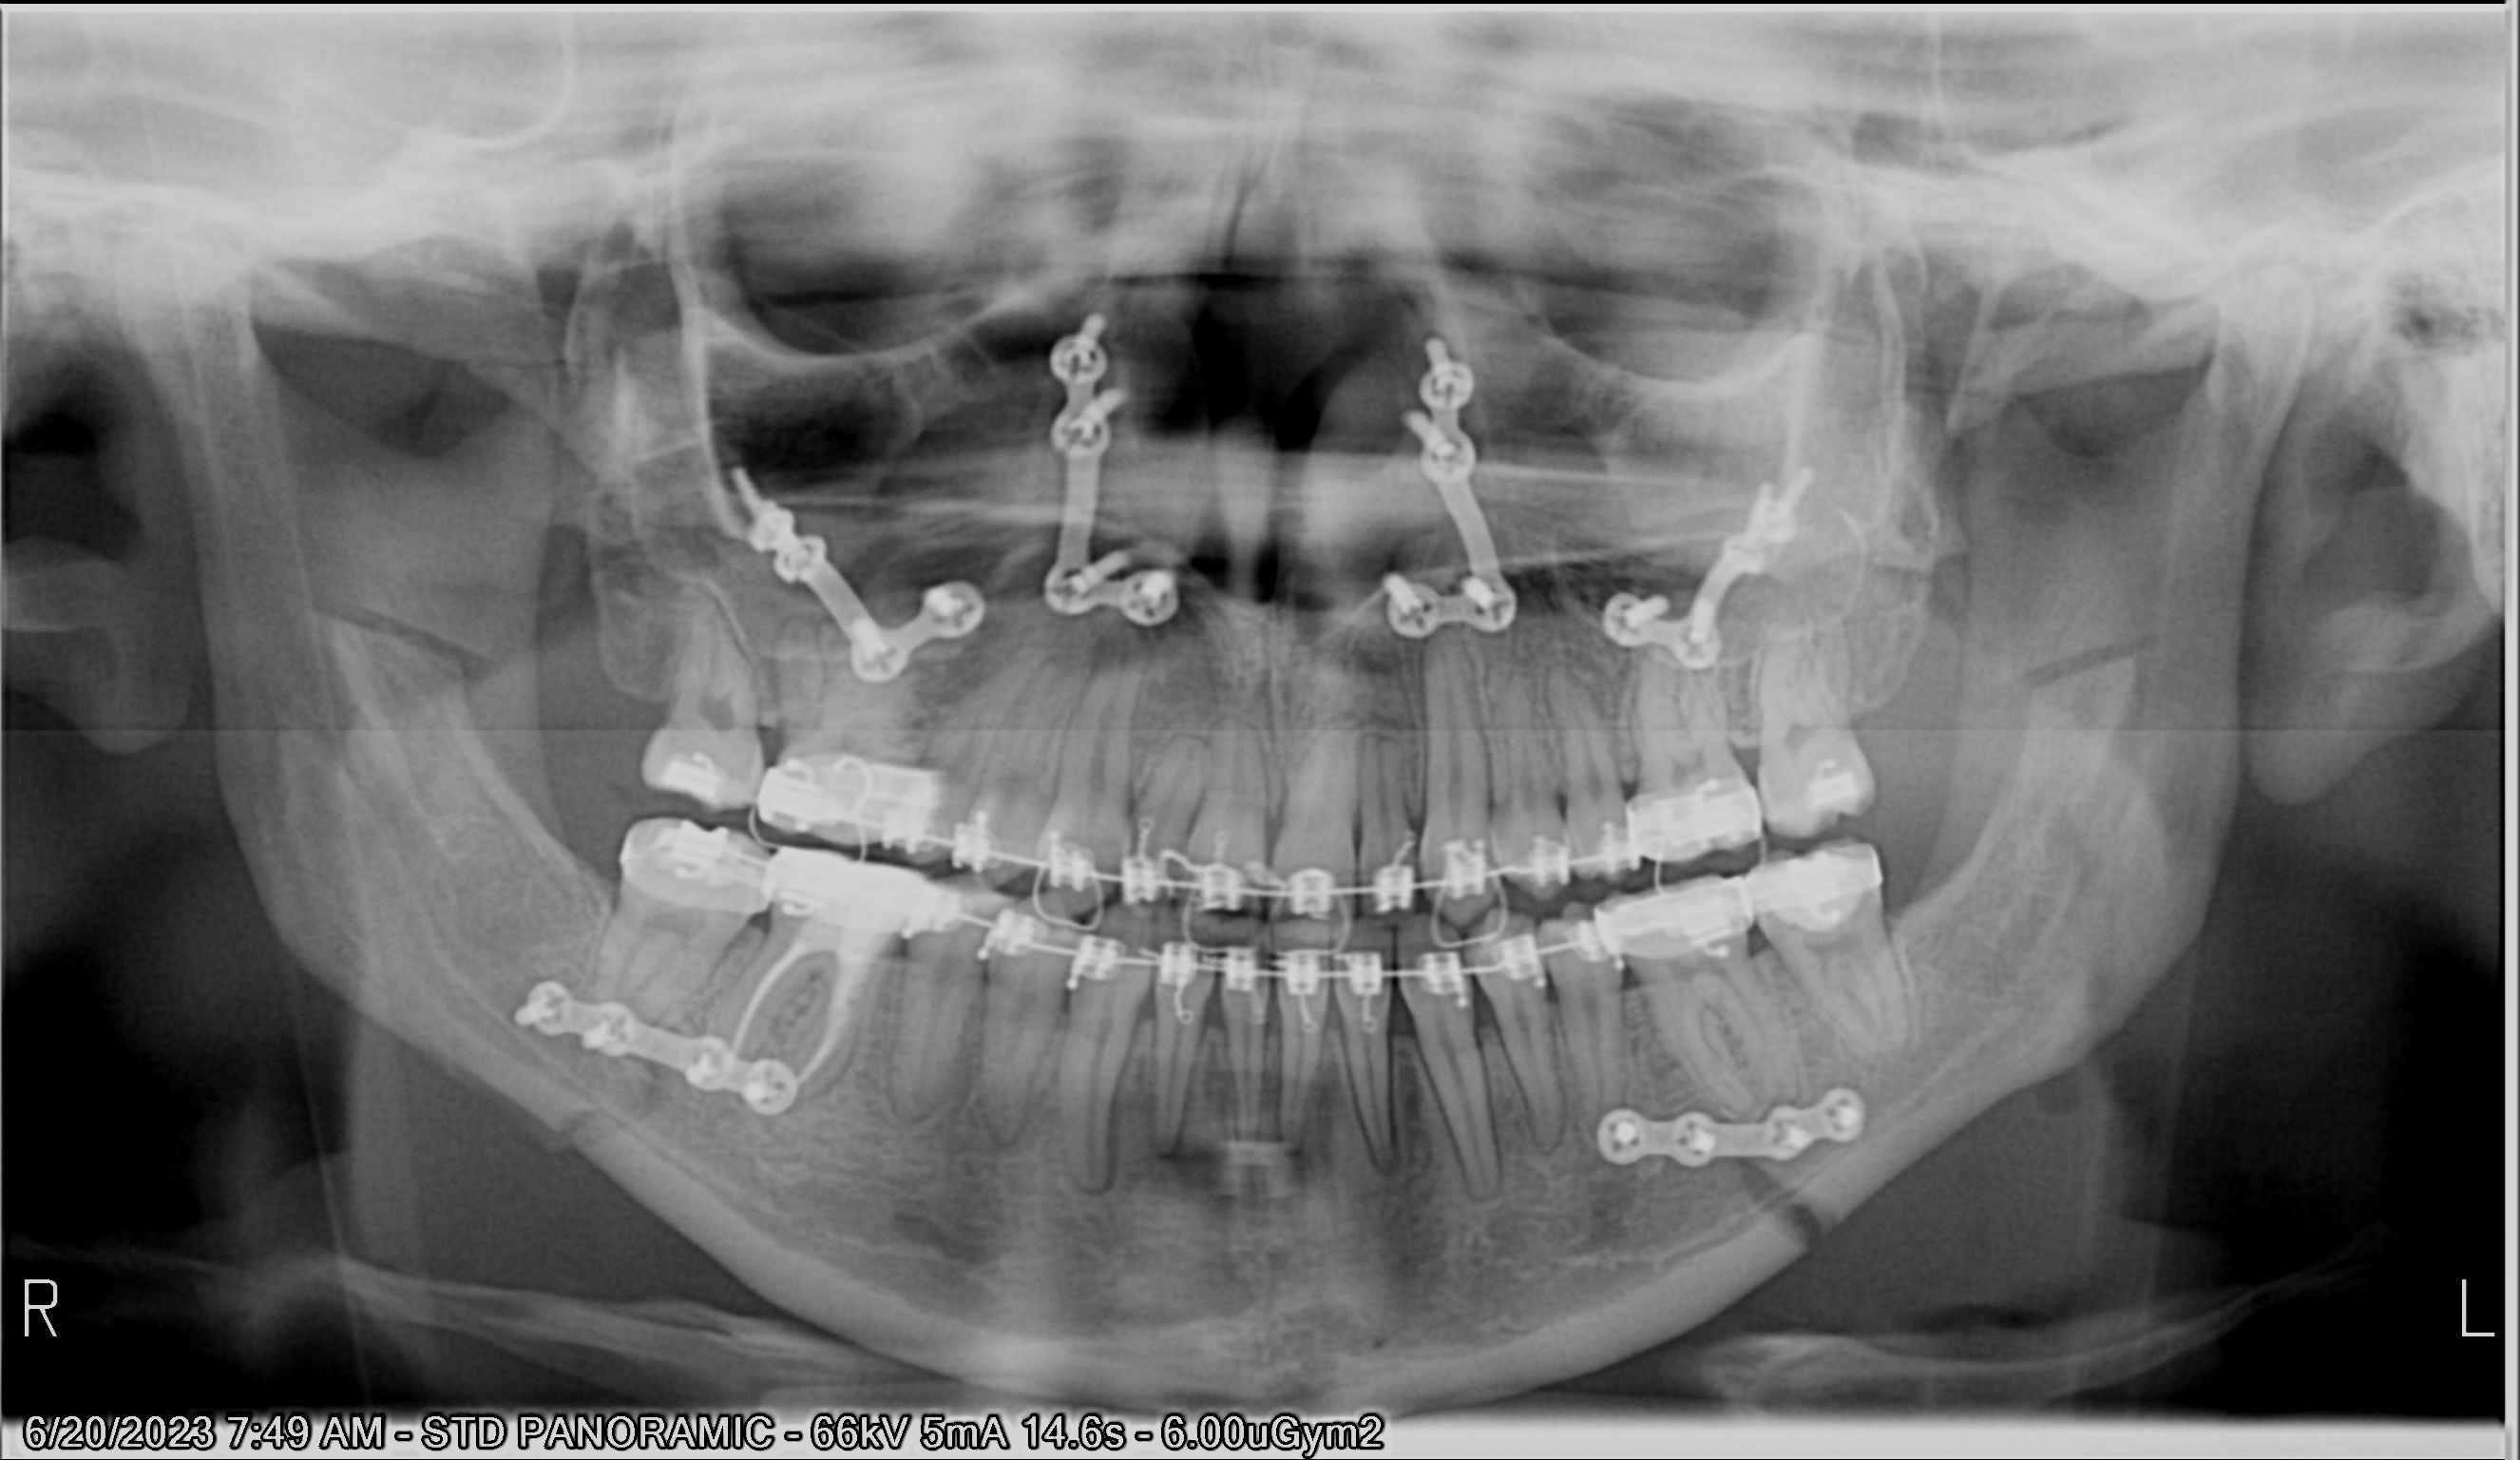ORD: (670, 723, 1930, 899), (623, 820, 1903, 975)
SRD: (728, 443, 988, 707), (1593, 382, 1815, 671), (1037, 294, 1178, 650), (1389, 327, 1532, 648), (521, 980, 809, 1135), (1587, 1078, 1884, 1177)
